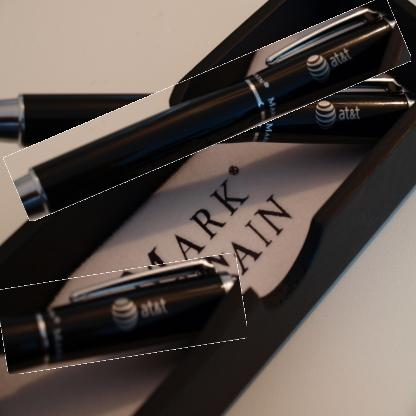Pen: (1, 35, 414, 183), (0, 262, 246, 367)
